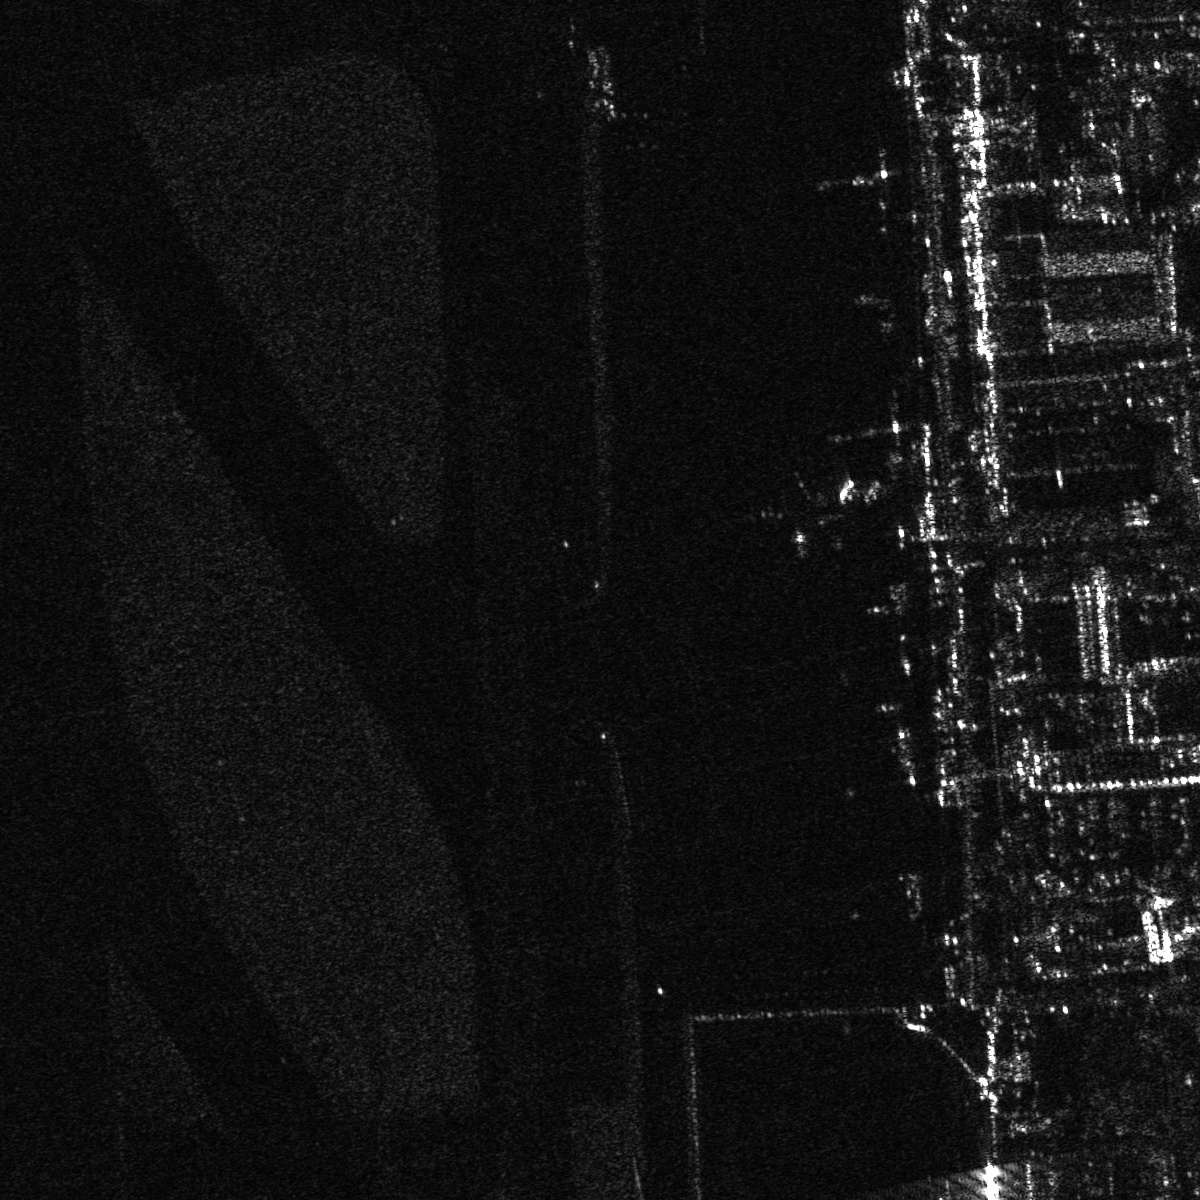A320/321: (829, 391, 918, 458)
other: (811, 134, 913, 231), (749, 473, 849, 554)
